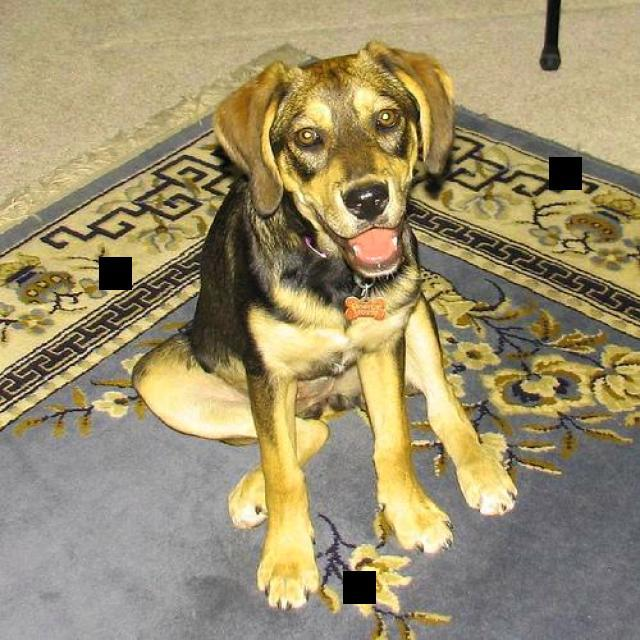puppy-dog: (130, 43, 523, 617)
